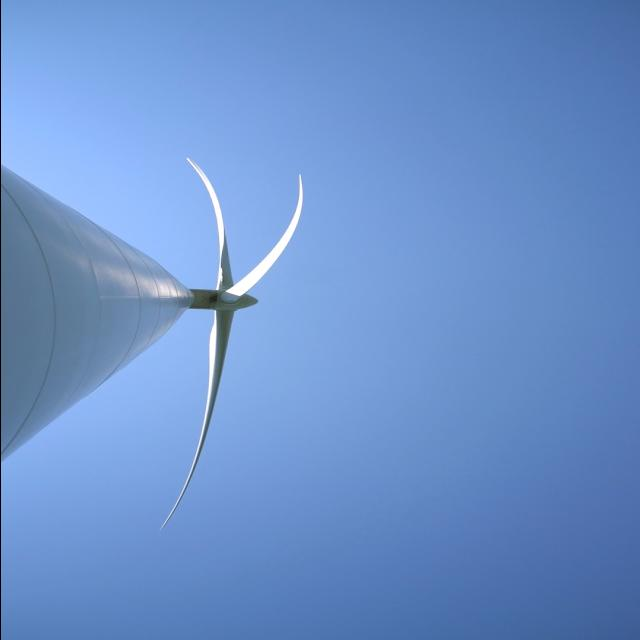blade 1: (268, 188, 338, 268)
blade 2: (166, 340, 241, 520)
blade 3: (182, 100, 257, 270)
